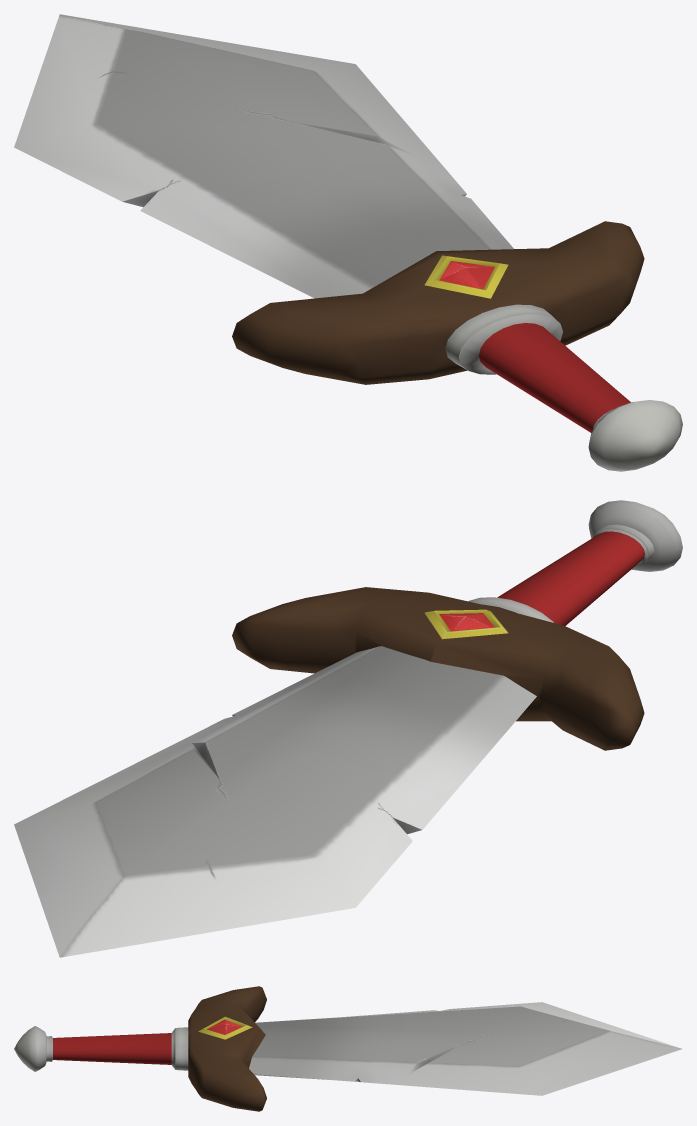
File: Skelton_Weapon.fbx
3 renders of one model, top to bottom at view 1: azimuth 30°, elevation 25°; view 2: azimuth 150°, elevation 25°; view 3: azimuth 270°, elevation 25°, orthographic. The views are drawn at different scales.
Visible parts, largest first — view 1: blade, Handle; view 2: blade, Handle; view 3: blade, Handle.
Boxes of the visible parts, x1,y1,x2,y2 form: blade: (14, 14, 513, 298); Handle: (232, 221, 682, 471); blade: (14, 646, 536, 957); Handle: (232, 500, 682, 750); blade: (249, 1002, 681, 1095); Handle: (14, 986, 266, 1111).
Bounding box in the file's own units: 18.56 × 3.9 × 47.55.
